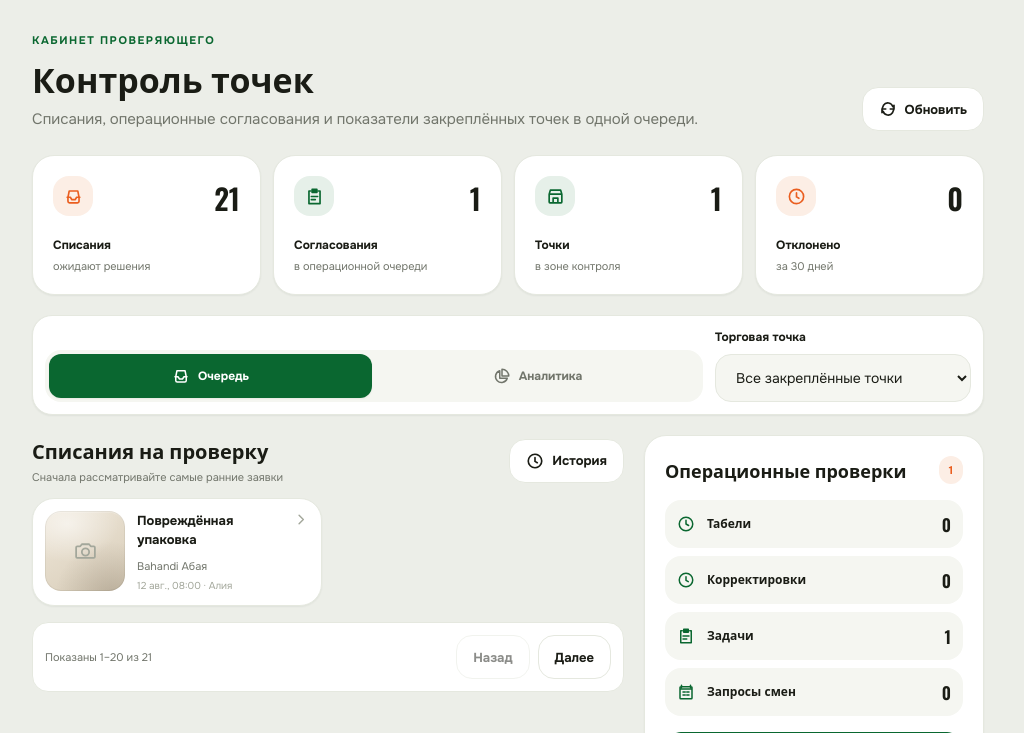
Test: reviewer workspace › shows the scoped review queue and switches to analytics
The image size is (1024, 733).
Expected: the heading "Контроль точек" is shown, [32,52,314,102]
Expected: the text "Повреждённая упаковка" is shown, [137,512,233,548]
Click the button "Далее" at {"x": 574, "y": 657}, box [538,635,611,679]
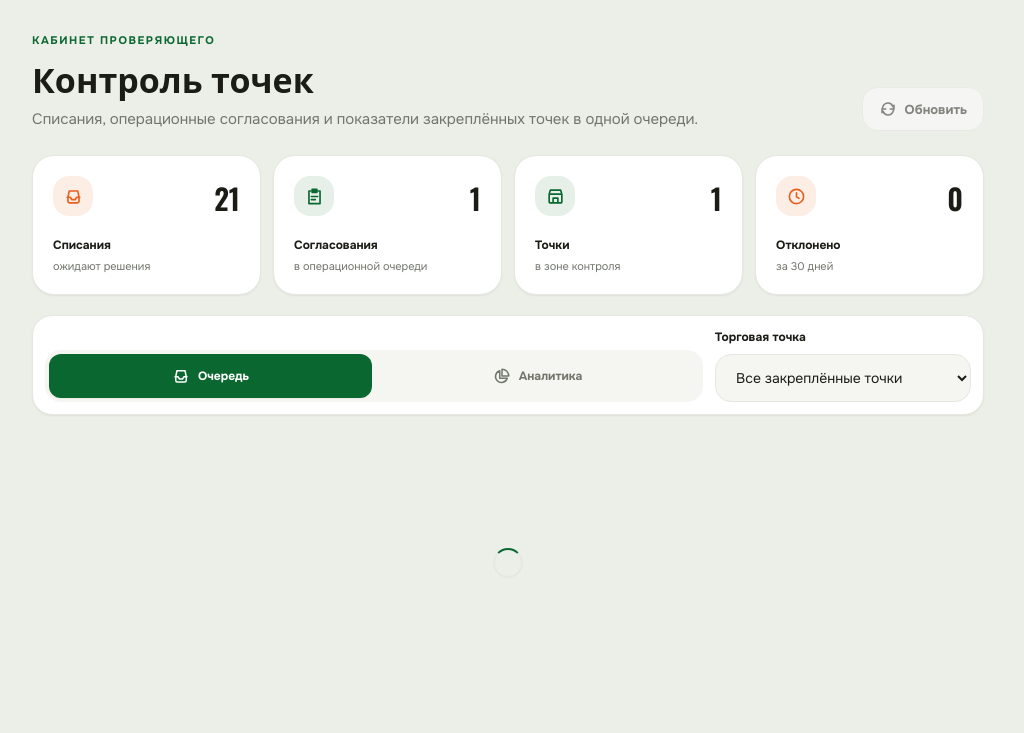
Click the tab "Аналитика" at {"x": 538, "y": 376}, box [376,354,699,398]
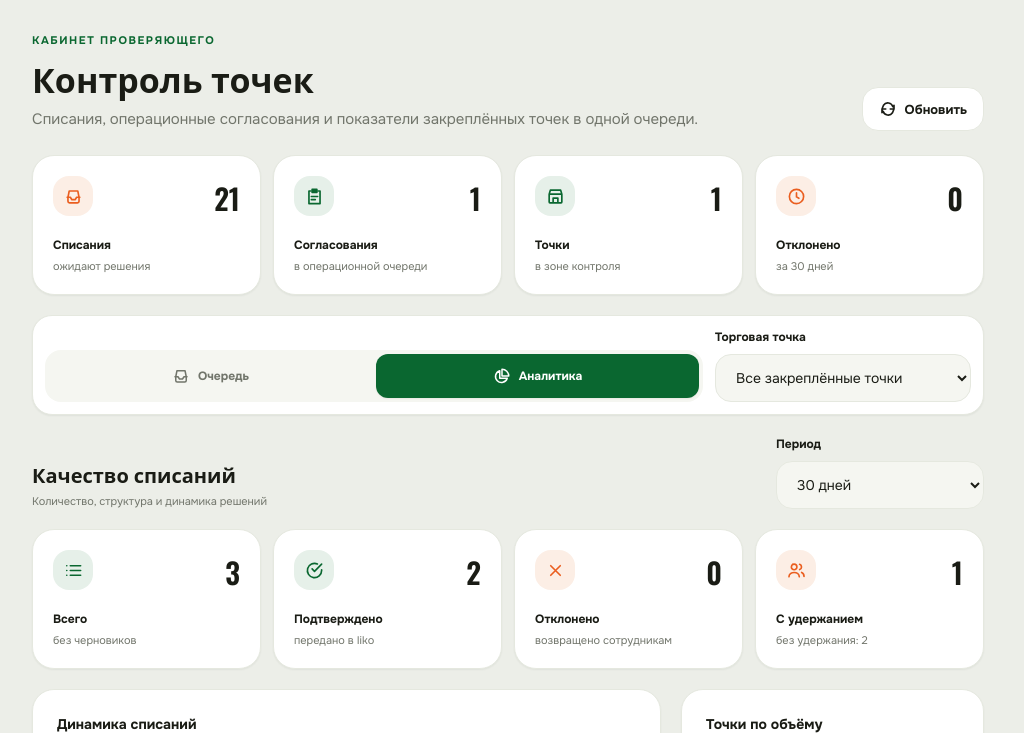
Expected: the heading "Качество списаний" is shown, [32,459,267,489]
